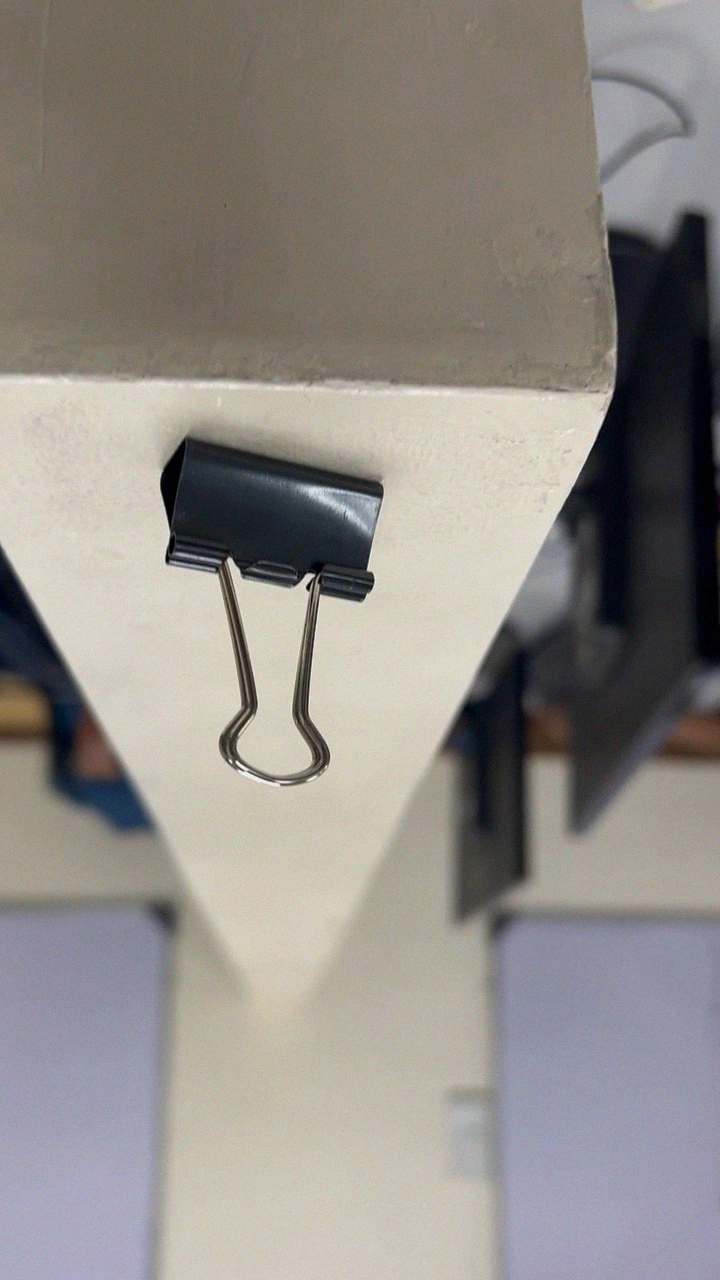kep_giay: (152, 440, 387, 791)
